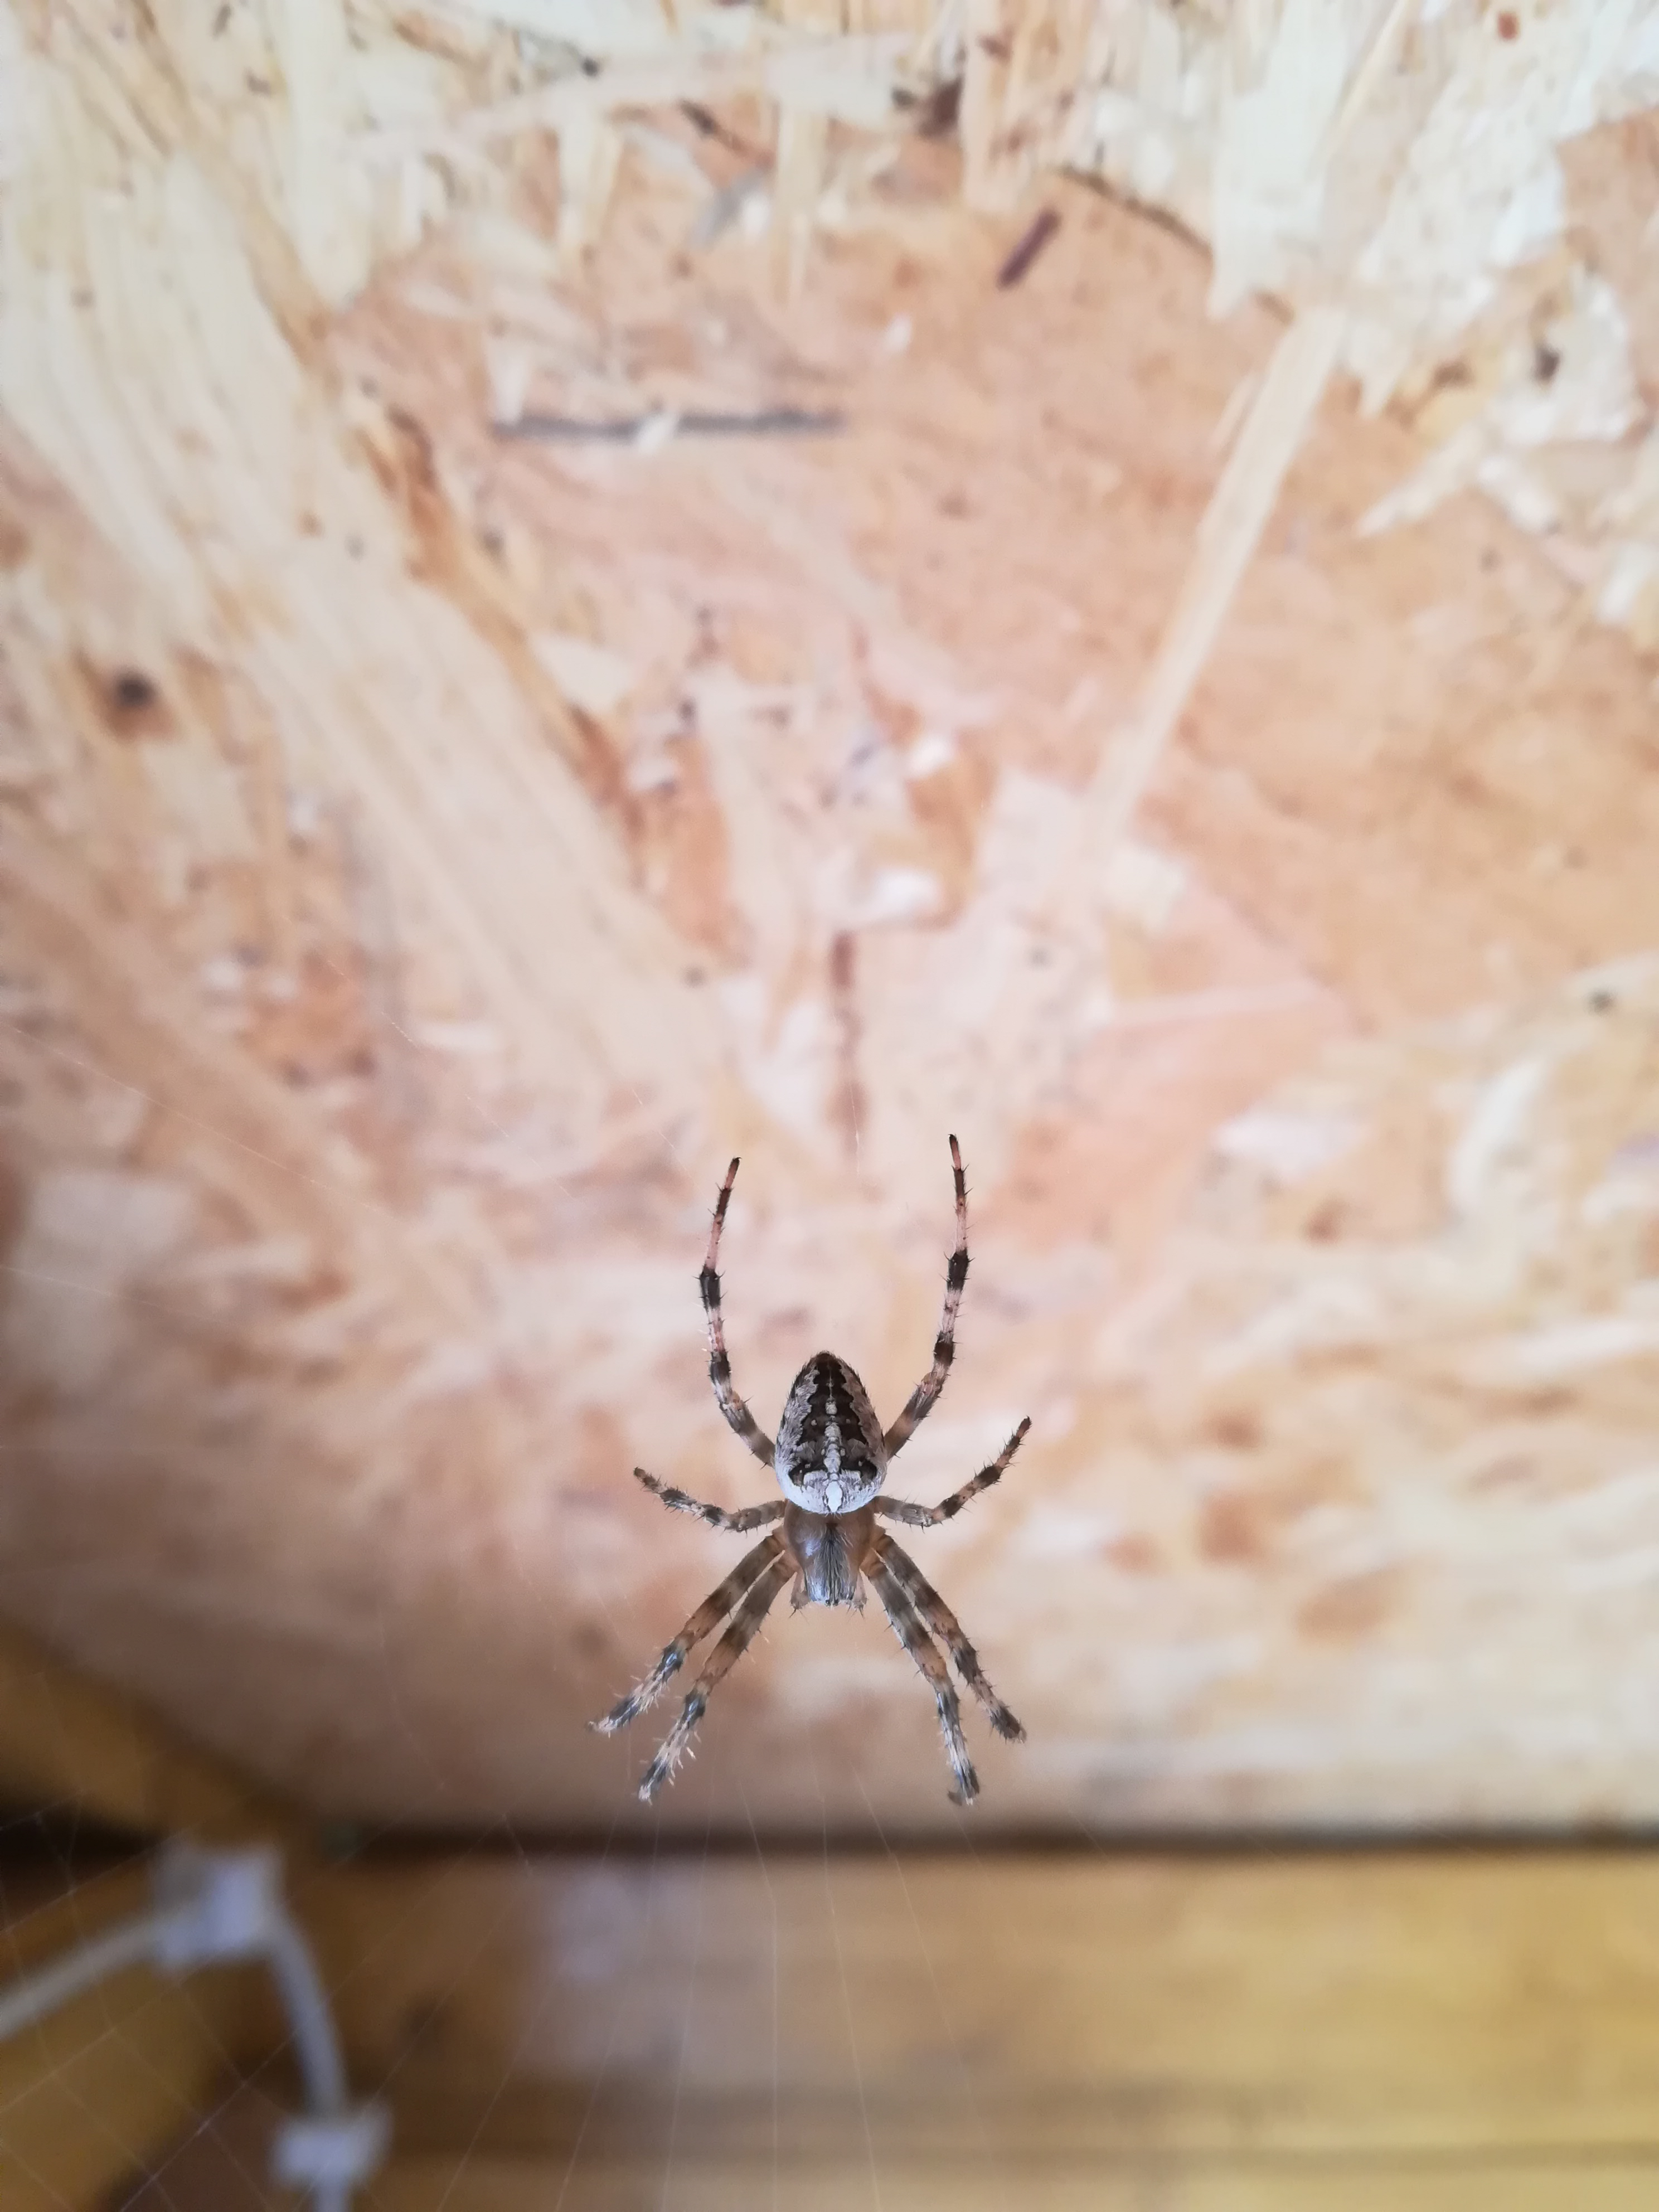spider: (512, 1085, 1129, 1857)
